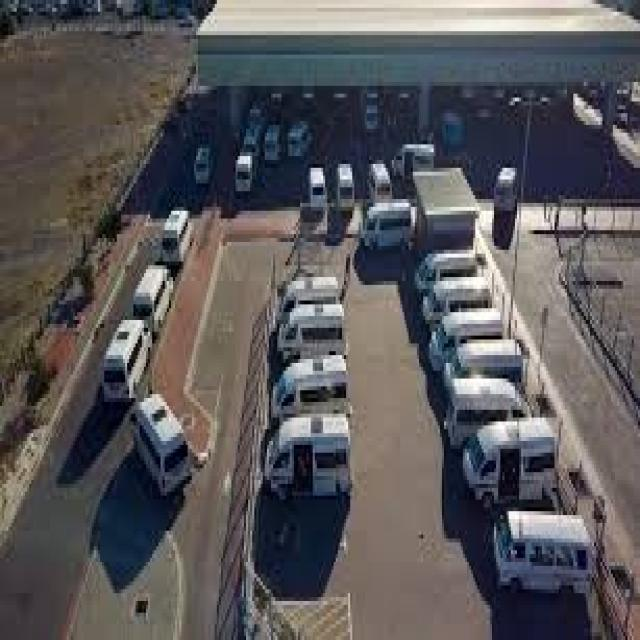MiniBus taxi: (258, 414, 367, 504), (461, 426, 571, 508), (492, 515, 600, 589), (131, 391, 196, 504), (444, 378, 534, 456), (98, 316, 152, 410), (269, 355, 354, 410), (273, 305, 359, 355), (132, 261, 186, 324), (358, 199, 415, 250), (156, 203, 194, 261)
